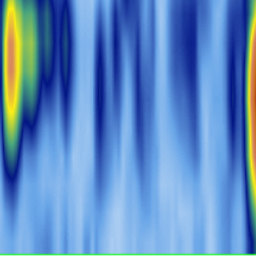defect: (1, 1, 23, 211), (172, 1, 200, 149), (244, 1, 256, 256), (24, 1, 42, 157), (226, 1, 242, 172), (58, 1, 76, 141), (132, 30, 149, 166), (95, 10, 106, 185), (45, 2, 58, 118), (112, 3, 122, 112), (120, 1, 134, 19)
